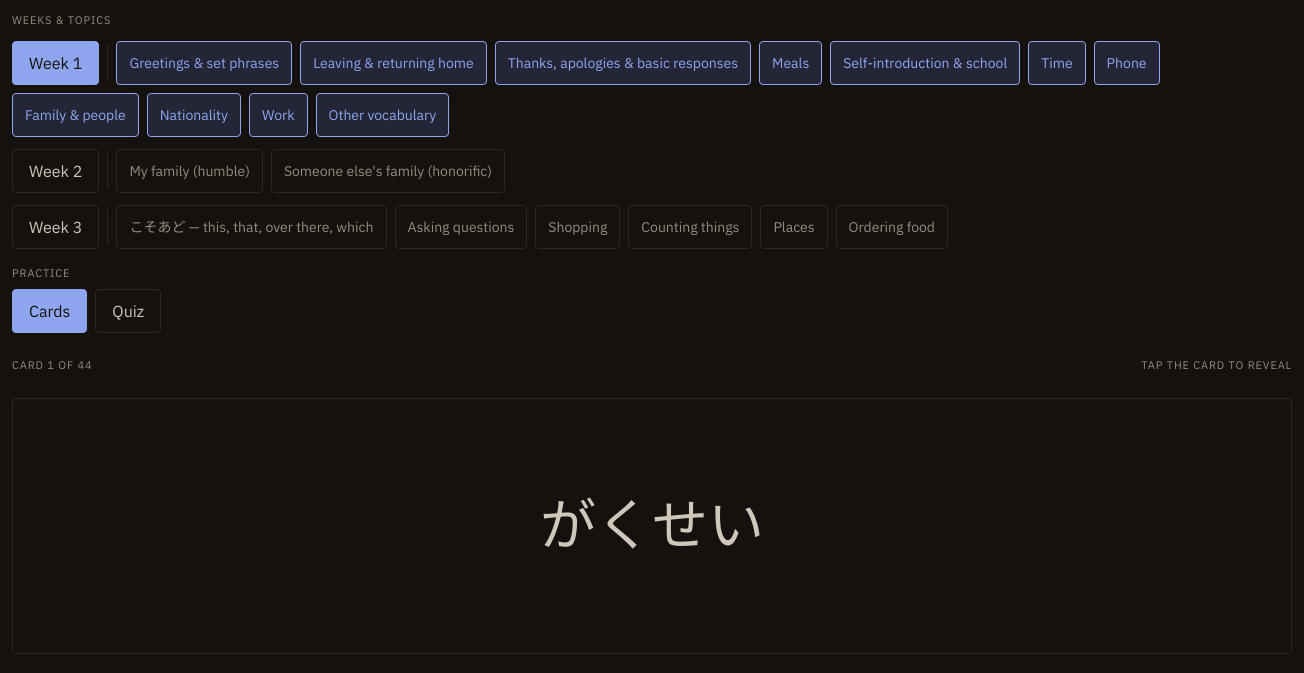
the round size picker › is a quiz control, and not on screen with the cards
The image size is (1304, 673).
Click the button "Quiz".
click(128, 311)  # box [95,289,161,333]
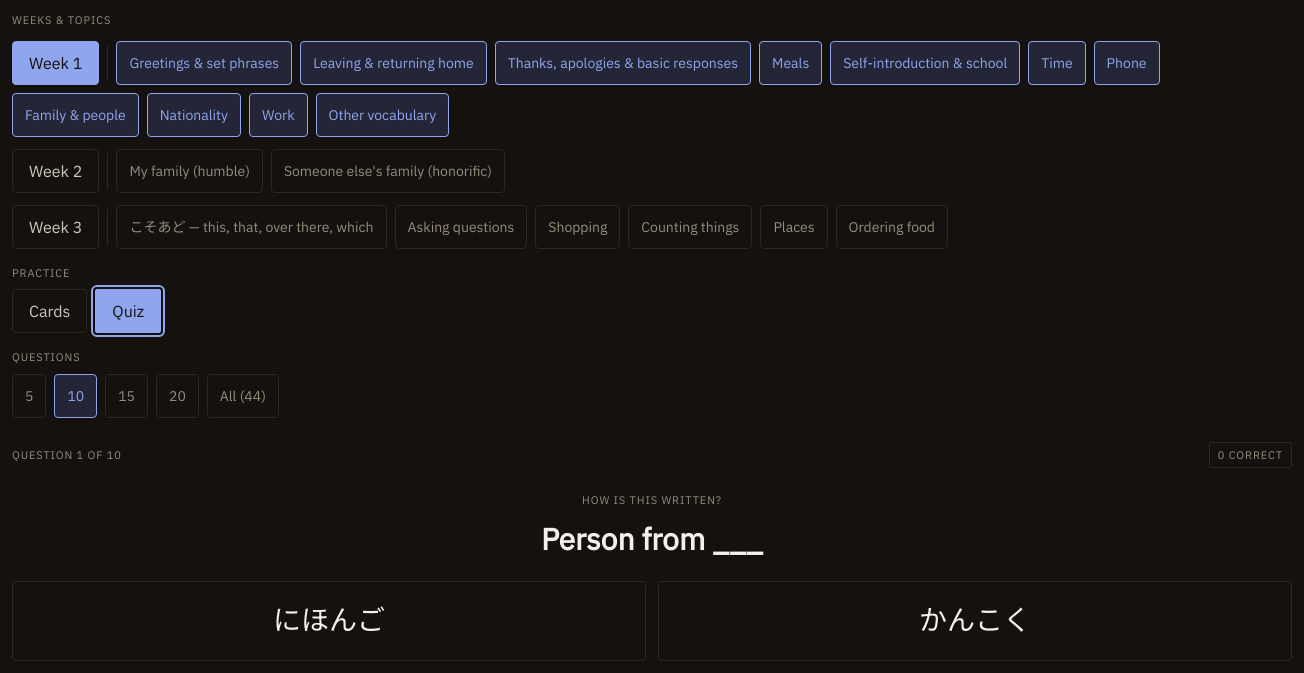
expect the element named "Questions" is shown: met, box [12,374,279,418]
